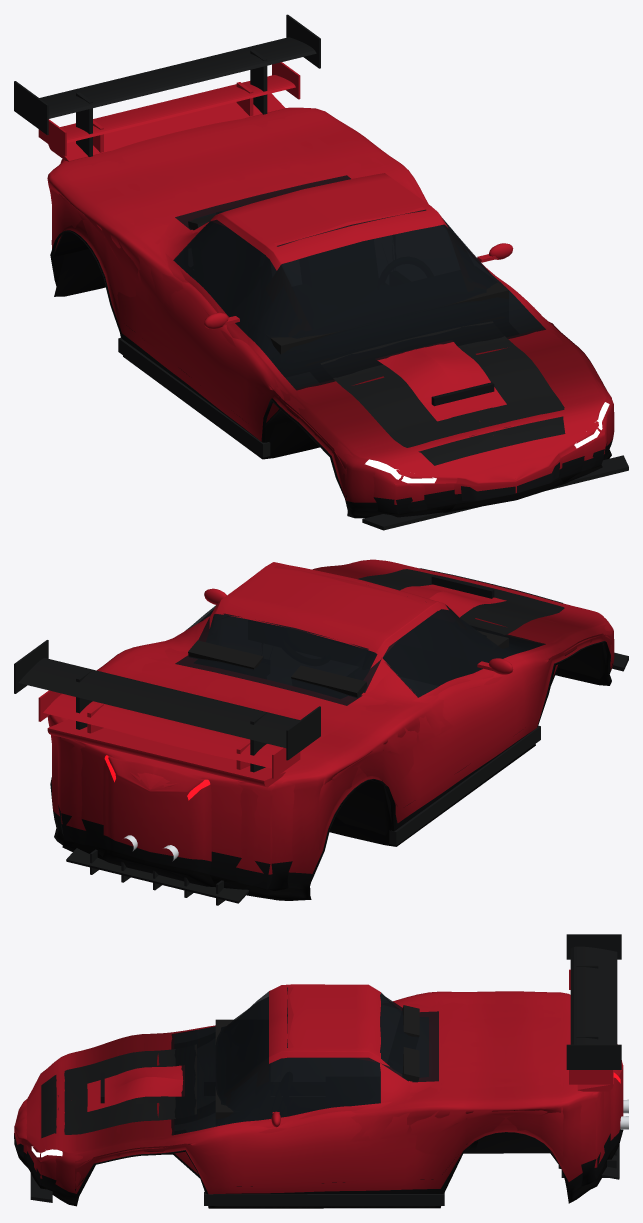
File: sr_audi_r8_v10.glb
3 renders of one model, top to bottom at view 1: azimuth 30°, elevation 25°; view 2: azimuth 150°, elevation 25°; view 3: azimuth 270°, elevation 25°, orthographic. The views are drawn at different scales.
Visible parts, largest first — view 1: body (×2), hood_3, spoiler_3, spoiler_2, hood_1, bumper_1, spoiler_1, interior, grille, mirrors, headlights; view 2: body (×2), spoiler_3, spoiler_2, bumper_1, spoiler_1, hood_3, interior, hood_1, mirrors, hood_1_intake; view 3: body (×2), spoiler_3, hood_3, bumper_1, hood_1, interior, spoiler_2.
Boxes of the visible parts, x1=… form: body (×2): x1=47, y1=107, x2=614, y2=518; hood_3: x1=320, y1=321, x2=565, y2=465; spoiler_3: x1=14, y1=14, x2=320, y2=156; spoiler_2: x1=38, y1=62, x2=300, y2=156; hood_1: x1=377, y1=342, x2=506, y2=421; bumper_1: x1=118, y1=338, x2=628, y2=530; spoiler_1: x1=48, y1=93, x2=285, y2=161; interior: x1=188, y1=214, x2=508, y2=354; grille: x1=461, y1=462, x2=559, y2=500; mirrors: x1=204, y1=243, x2=513, y2=329; headlights: x1=365, y1=402, x2=609, y2=483; body (×2): x1=47, y1=559, x2=614, y2=900; spoiler_3: x1=14, y1=640, x2=320, y2=772; spoiler_2: x1=38, y1=690, x2=300, y2=778; bumper_1: x1=66, y1=652, x2=628, y2=905; spoiler_1: x1=47, y1=719, x2=285, y2=787; hood_3: x1=358, y1=568, x2=564, y2=635; interior: x1=188, y1=630, x2=508, y2=697; hood_1: x1=400, y1=584, x2=506, y2=617; mirrors: x1=204, y1=588, x2=513, y2=674; hood_1_intake: x1=431, y1=575, x2=494, y2=598; body (×2): x1=14, y1=984, x2=623, y2=1208; spoiler_3: x1=566, y1=934, x2=621, y2=1069; hood_3: x1=41, y1=1044, x2=196, y2=1138; bumper_1: x1=30, y1=1144, x2=619, y2=1205; hood_1: x1=87, y1=1065, x2=183, y2=1111; interior: x1=215, y1=1005, x2=419, y2=1119; spoiler_2: x1=569, y1=969, x2=612, y2=1084.
Size of the model in its own units: 2.16 by 1.33 by 4.47.
